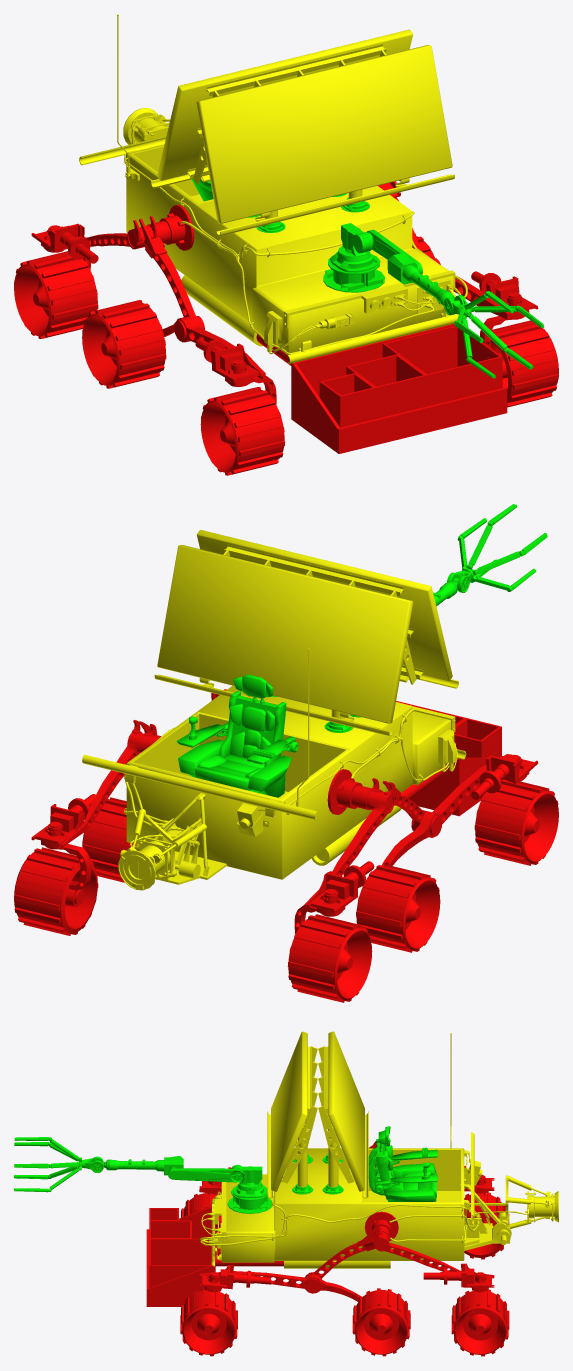
Rendered from Rover_2.fbx.
3 views of the same model, one above another, from view 1: azimuth 30°, elevation 25°; view 2: azimuth 150°, elevation 25°; view 3: azimuth 270°, elevation 25° (orthographic). The views are drawn at different scales.
Visible parts, largest first — view 1: Body, Wheel_5, Wheel_4, Wheel_6, Container_2, Container_small, Wheel_1, Container_3, Upper_knee_2, Container_madium, Container_big, Container_1 (+10 smaller); view 2: Body, Armchair, Wheel_6, Wheel_5, Wheel_4, Wheel_3, Upper_knee_2, Wheel_2, Container_small, Upper_knee_1, Lower_knee_2, Shock_absorber_4 (+6 smaller); view 3: Body, Armchair, Wheel_2, Wheel_3, Wheel_1, Container_2, Container_big, Upper_knee_1, Lower_knee_1, Base, Arm_knee_1, Shock_absorber_2 (+8 smaller).
Boxes of the visible parts, box(x1,y1,x2,y2) form: Body: box(79, 14, 467, 363); Wheel_5: box(82, 300, 166, 388); Wheel_4: box(200, 387, 284, 475); Wheel_6: box(14, 251, 98, 338); Container_2: box(382, 325, 502, 406); Container_small: box(256, 334, 377, 453); Wheel_1: box(490, 320, 558, 407); Container_3: box(346, 354, 426, 418); Upper_knee_2: box(61, 216, 204, 341); Container_madium: box(331, 341, 428, 444); Container_big: box(381, 324, 507, 432); Container_1: box(319, 373, 375, 427); Body: box(82, 530, 466, 890); Armchair: box(176, 674, 298, 797); Wheel_6: box(287, 914, 372, 1002); Wheel_5: box(356, 864, 440, 952); Wheel_4: box(474, 779, 558, 865); Wheel_3: box(14, 847, 98, 935); Upper_knee_2: box(304, 778, 442, 906); Wheel_2: box(82, 797, 133, 882); Container_small: box(400, 756, 502, 816); Upper_knee_1: box(61, 720, 160, 847); Lower_knee_2: box(381, 754, 509, 865); Shock_absorber_4: box(307, 861, 374, 915); Body: box(200, 1031, 558, 1268); Armchair: box(368, 1126, 437, 1201); Wheel_2: box(352, 1288, 410, 1356); Wheel_3: box(451, 1289, 509, 1356); Wheel_1: box(180, 1289, 237, 1356); Container_2: box(149, 1238, 211, 1287); Container_big: box(146, 1246, 283, 1306); Upper_knee_1: box(305, 1223, 494, 1293); Lower_knee_1: box(199, 1265, 361, 1301); Base: box(227, 1182, 272, 1213); Arm_knee_1: box(168, 1167, 244, 1182); Shock_absorber_2: box(423, 1263, 494, 1291).
Bounding box in the file's own units: 31.83 × 30.2 × 64.02.
